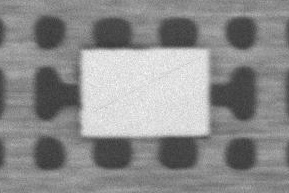DIE_CRACK: (144, 37, 289, 73)
